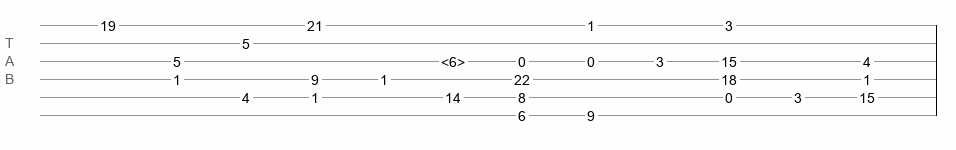0: (518, 54, 526, 64), (587, 54, 595, 64), (725, 90, 733, 100)
1: (173, 72, 181, 82), (311, 90, 319, 100), (380, 72, 388, 82), (587, 18, 595, 28), (863, 72, 871, 82)
14: (445, 90, 461, 100)
15: (721, 54, 737, 64), (859, 90, 875, 100)
18: (721, 72, 737, 82)
19: (100, 18, 116, 28)
21: (307, 18, 323, 28)
22: (514, 72, 530, 82)
3: (656, 54, 664, 64), (725, 18, 733, 28), (794, 90, 802, 100)
4: (242, 90, 250, 100), (863, 54, 871, 64)
5: (173, 54, 181, 64), (242, 36, 250, 46)
6: (518, 108, 526, 118)
8: (518, 90, 526, 100)
9: (311, 72, 319, 82), (587, 108, 595, 118)
harmonic: (441, 54, 465, 64)
